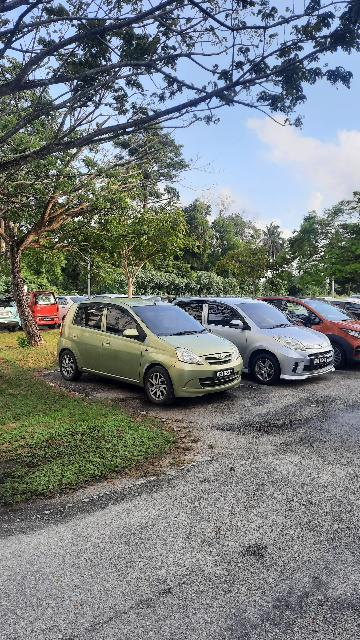License_Plate: (213, 368, 239, 380), (312, 356, 332, 368)
car: (55, 297, 246, 402), (167, 294, 340, 384)
